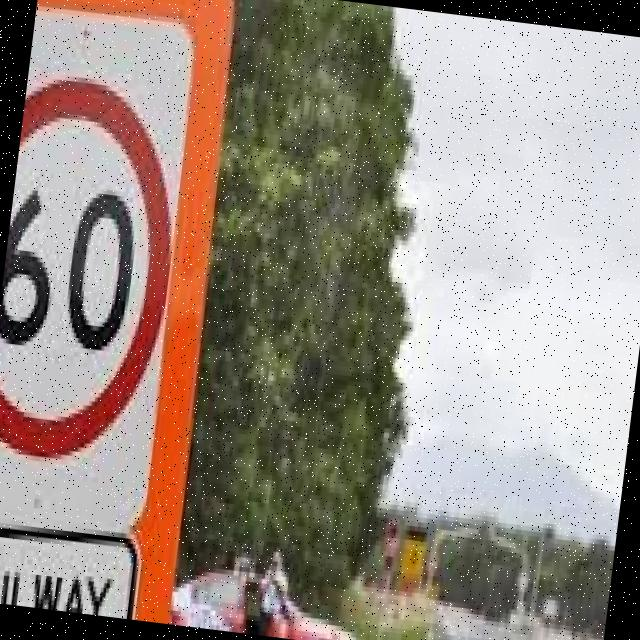speed_limit_60: (0, 57, 195, 474)
